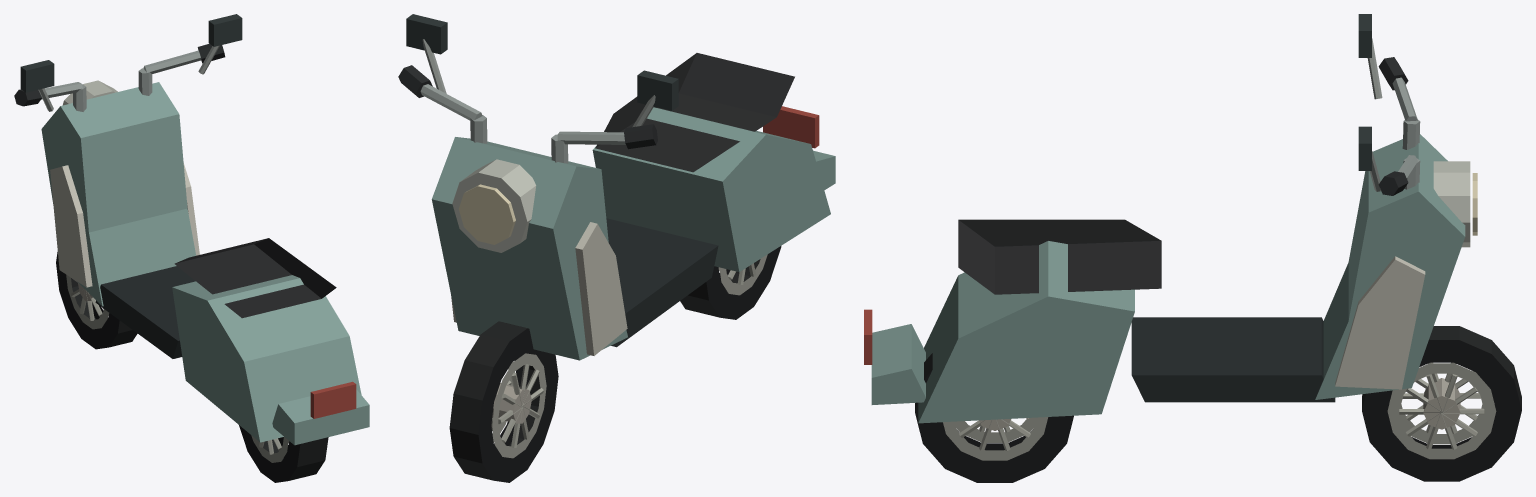
Rendered from scooter.glb.
3 renders of one model, left to right at view 1: azimuth 30°, elevation 25°; view 2: azimuth 150°, elevation 25°; view 3: azimuth 270°, elevation 25°, orthographic. The views are drawn at different scales.
Visible parts, largest first — view 1: proposition_scooter; view 2: proposition_scooter; view 3: proposition_scooter.
Boxes of the visible parts, x1,y1,x2,y2 form: proposition_scooter: [14, 14, 369, 482]; proposition_scooter: [398, 14, 835, 482]; proposition_scooter: [864, 14, 1521, 482].
Bounding box in the file's own units: 0.92 × 1.31 × 1.97.
